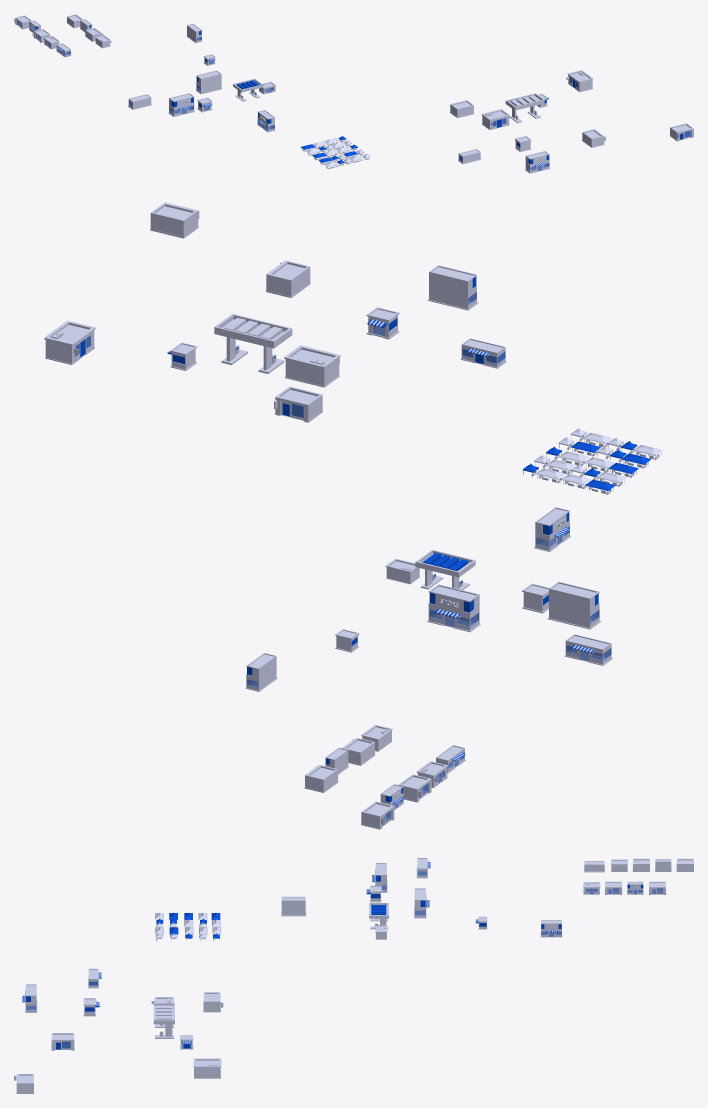
File: Stores.glb
The picture shows the model from 3 angles, top to bottom: view 1: azimuth 30°, elevation 25°; view 2: azimuth 150°, elevation 25°; view 3: azimuth 270°, elevation 25°; orthographic projection. The views are drawn at different scales.
Visible parts, largest first — view 1: Gas Station, store_L.005, store_L.001, store_L.006, Store.009, Store.008, Gas Station.001, Store.007, Store.010, Store.011, store_L, store_M.002 (+1 smaller); view 2: Gas Station, store_L.005, store_L.001, Store.009, store_L.006, Store.008, Gas Station.001, Store.011, Store.007, Store.010, store_L, store_M.002 (+2 smaller); view 3: Gas Station, Store.008, store_L, Gas Station.001, store_L.005, Store.010, Store.007, store_L.004, store_L.006.
Part boxes in pixels (<box>): Gas Station: <box>505,93,544,123</box>; store_L.005: <box>195,70,221,94</box>; store_L.001: <box>168,93,194,116</box>; store_L.006: <box>525,151,550,173</box>; Store.009: <box>481,109,509,129</box>; Store.008: <box>566,70,593,92</box>; Gas Station.001: <box>233,78,263,101</box>; Store.007: <box>450,100,474,117</box>; Store.010: <box>582,129,605,147</box>; Store.011: <box>670,123,693,141</box>; store_L: <box>257,110,275,132</box>; store_M.002: <box>128,94,151,109</box>; Gas Station: <box>214,313,292,373</box>; store_L.005: <box>427,584,480,632</box>; store_L.001: <box>547,581,600,629</box>; Store.009: <box>284,345,340,387</box>; store_L.006: <box>427,265,478,310</box>; Store.008: <box>44,320,95,364</box>; Gas Station.001: <box>415,549,475,590</box>; Store.011: <box>150,202,199,238</box>; Store.007: <box>274,386,322,422</box>; Store.010: <box>266,260,310,297</box>; store_L: <box>534,507,570,551</box>; store_M.002: <box>564,634,612,665</box>; Gas Station: <box>153,1003,174,1038</box>; Store.008: <box>193,1058,221,1078</box>; store_L: <box>281,896,306,916</box>; Gas Station.001: <box>369,903,388,929</box>; store_L.005: <box>414,888,429,918</box>; Store.010: <box>51,1033,74,1050</box>; Store.007: <box>203,992,223,1012</box>; store_L.004: <box>540,920,562,937</box>; store_L.006: <box>22,984,37,1012</box>.
Bounding box in the file's own units: 80.97 × 3.58 × 102.
